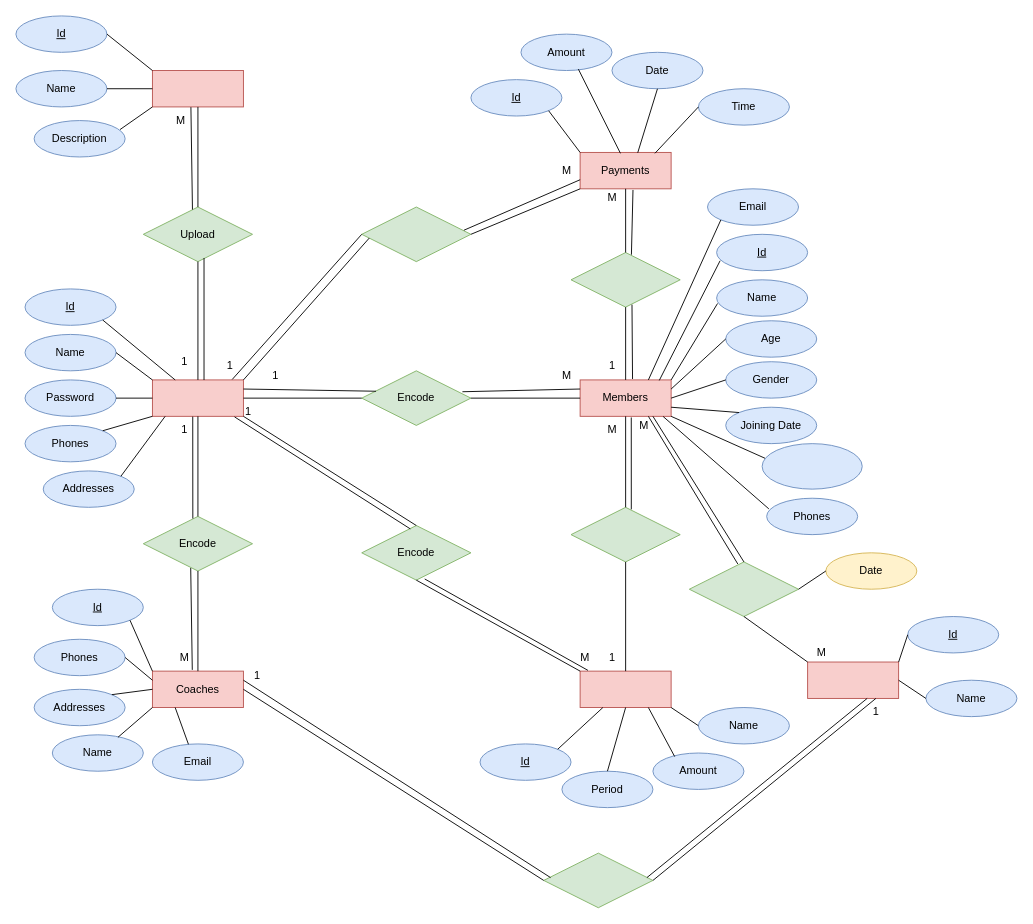
The diagram is 1033 pixels wide and 924 high, and some of its shapes have lost their labels. Here are the shapes that lost their labels. From the top down, the box of each, then its label:
(152, 70, 243, 107): Promotional Materials
(361, 206, 471, 262): Process
(570, 252, 680, 307): Make
(152, 379, 243, 416): Users
(761, 443, 862, 489): Date of the end of membership
(570, 506, 680, 562): Belong To
(688, 561, 799, 617): Enroll
(579, 670, 671, 708): Memberships
(807, 661, 899, 698): Program
(543, 852, 653, 908): Train
